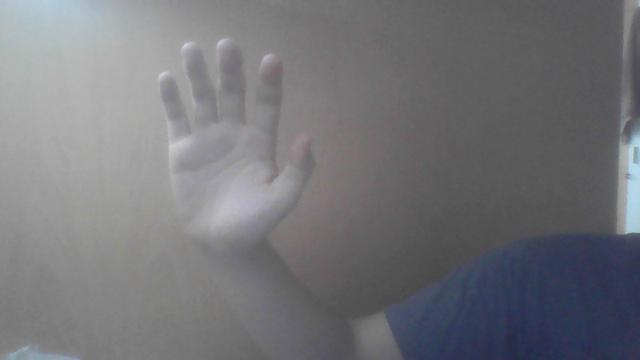Stop: (165, 37, 312, 251)
